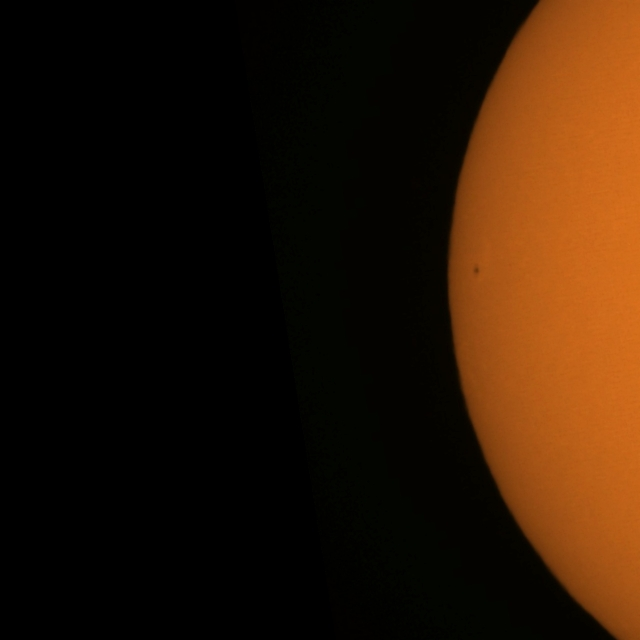sunspot: (472, 263, 481, 277)
